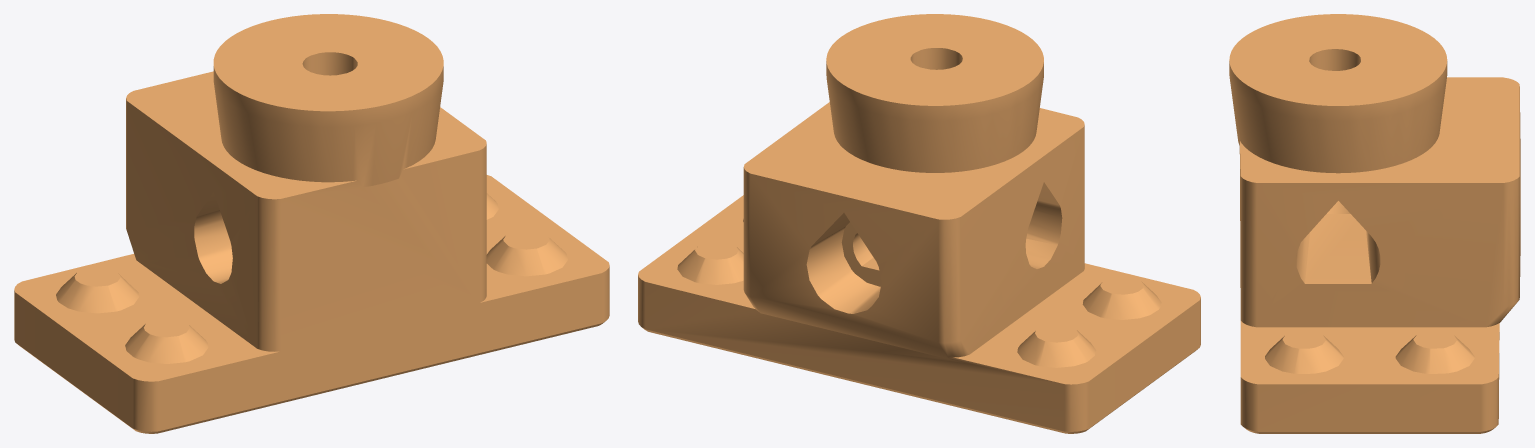
The model's file is mom-jet-valve-body.glb.
3 views of the same model, side by side, from view 1: azimuth 30°, elevation 25°; view 2: azimuth 150°, elevation 25°; view 3: azimuth 270°, elevation 25° (orthographic). The views are drawn at different scales.
Visible parts, largest first — view 1: mom-jet-valve-body; view 2: mom-jet-valve-body; view 3: mom-jet-valve-body.
Boxes of the visible parts, x1,y1,x2,y2 form: mom-jet-valve-body: (14,14,609,433); mom-jet-valve-body: (638,14,1200,433); mom-jet-valve-body: (1229,14,1520,433).
Bounding box in the file's own units: 0.0496 × 0.028 × 0.0278.
